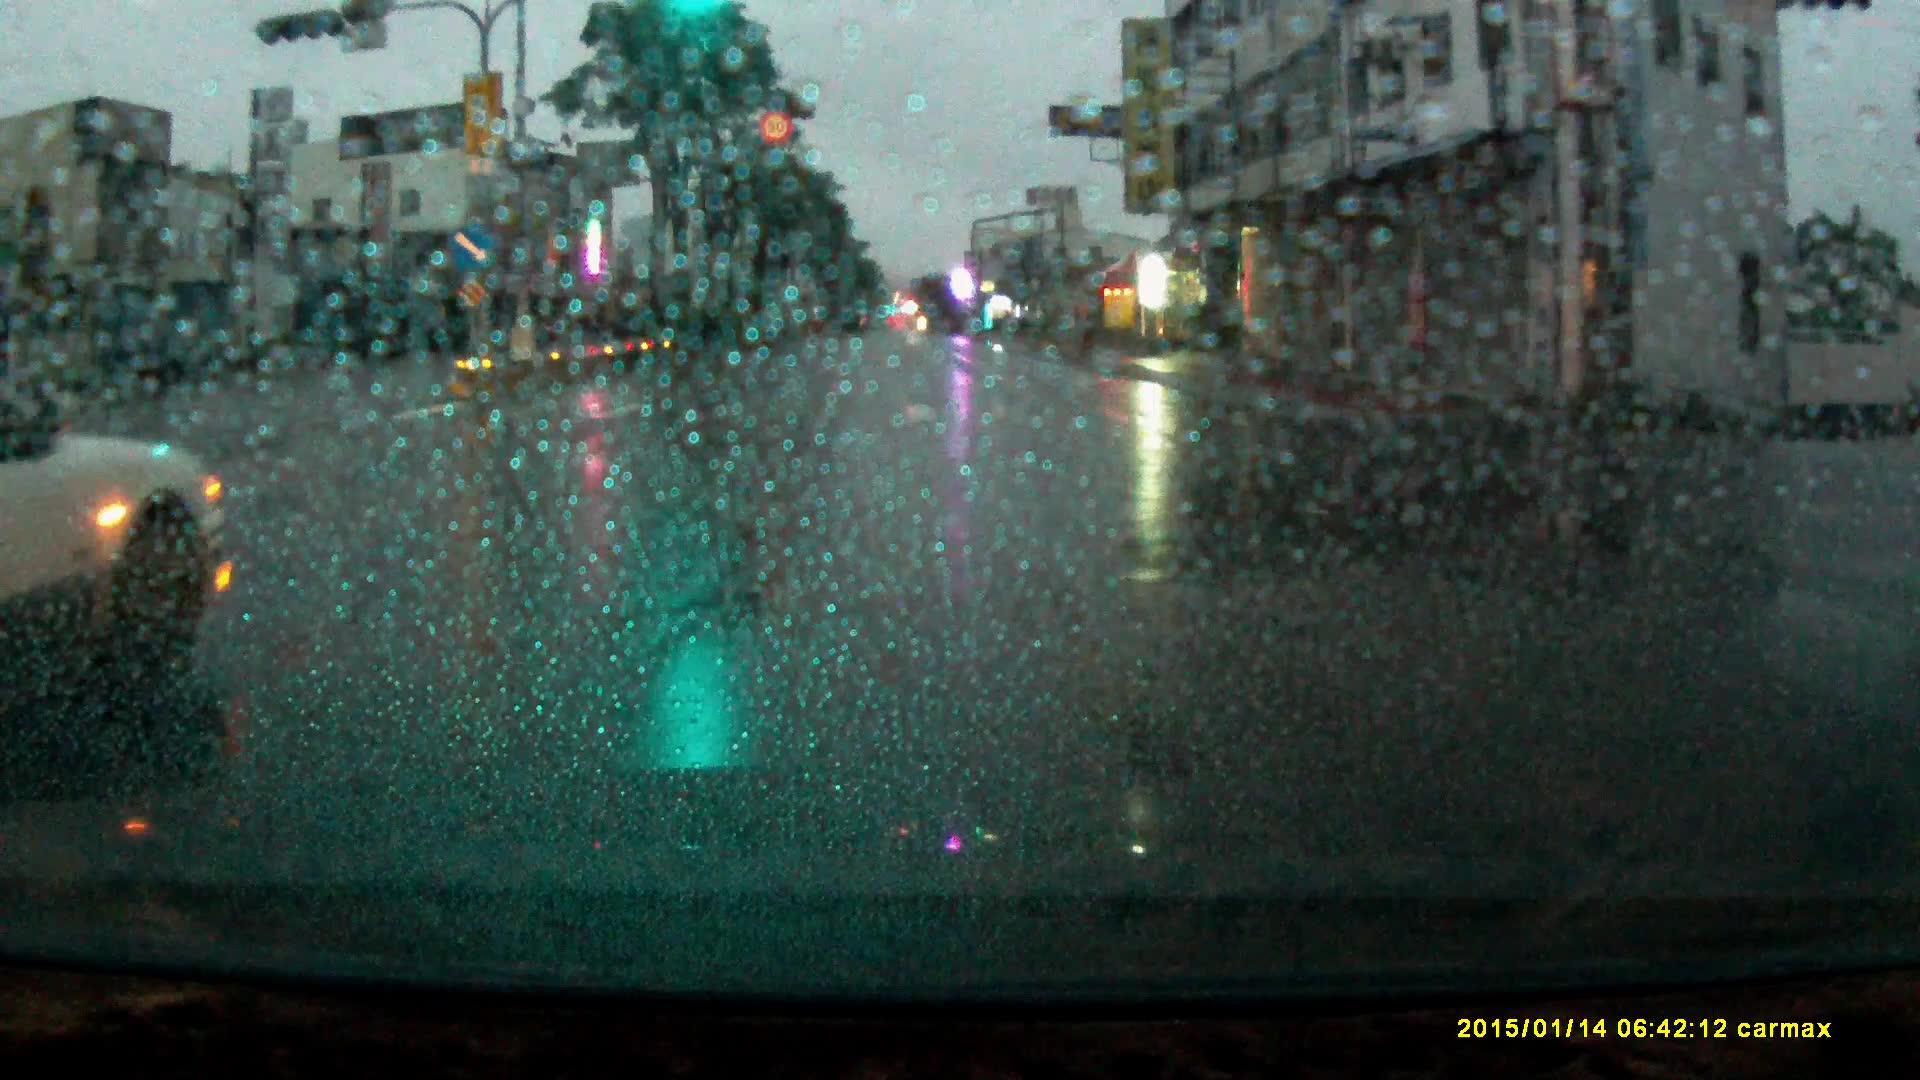vehicle: (1, 363, 232, 700)
